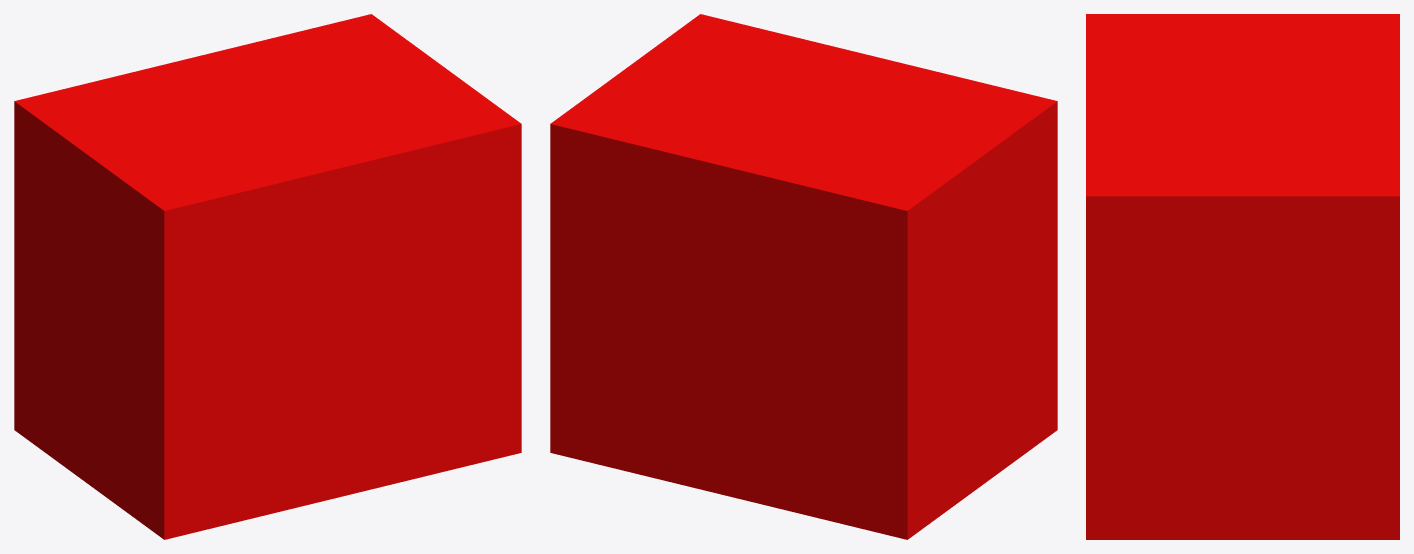
File: distal_phalanx5_lvs_col.dae
The picture shows the model from 3 angles, left to right: view 1: azimuth 30°, elevation 25°; view 2: azimuth 150°, elevation 25°; view 3: azimuth 270°, elevation 25°; orthographic projection. The views are drawn at different scales.
Parts seen in each view (by area): view 1: node0; view 2: node0; view 3: node0.
Boxes of the visible parts, <box> form: node0: <box>14,14,521,539</box>; node0: <box>550,14,1057,539</box>; node0: <box>1086,14,1399,539</box>.
Bounding box in the file's own units: 0.00771 × 0.00678 × 0.00561.
